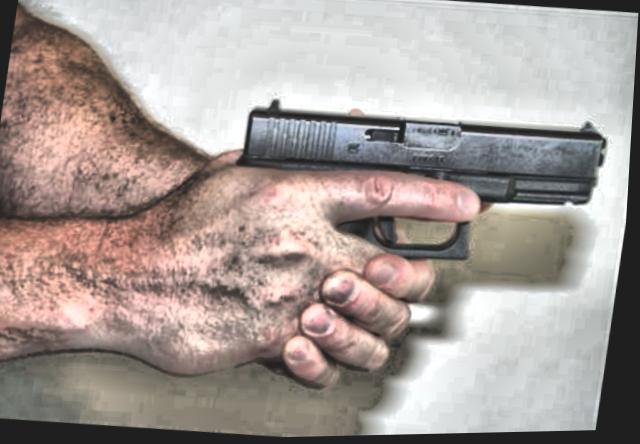pistol: (210, 87, 613, 409)
